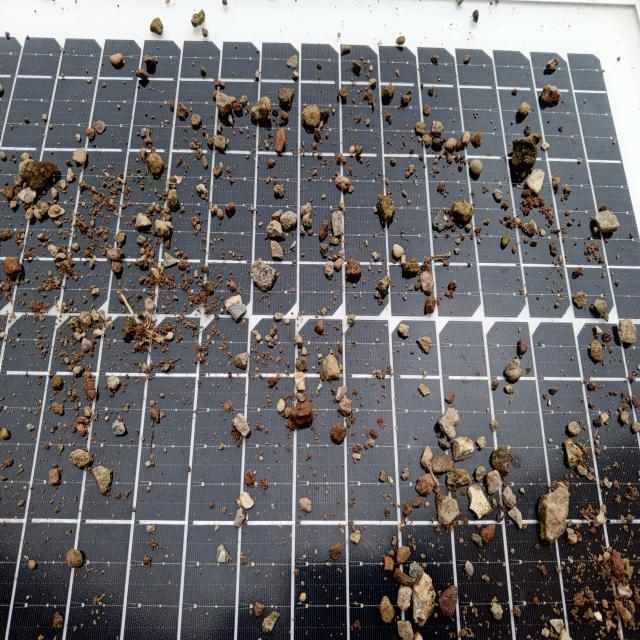Anomaly Solar Panel: (3, 7, 639, 629)
Surface Contaminant: (3, 7, 639, 629)
